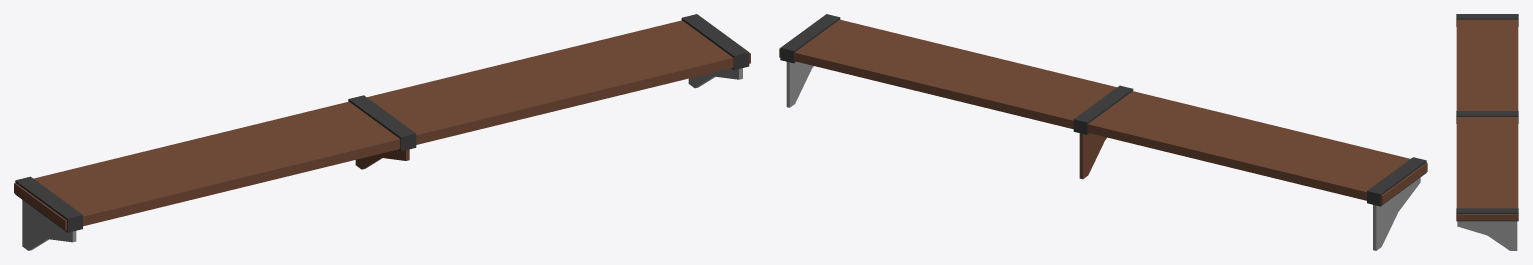
File: Med Wall Shelf.fbx
3 renders of one model, left to right at view 1: azimuth 30°, elevation 25°; view 2: azimuth 150°, elevation 25°; view 3: azimuth 270°, elevation 25°, orthographic. The views are drawn at different scales.
Visible parts, largest first — view 1: Med Wall Shelf; view 2: Med Wall Shelf; view 3: Med Wall Shelf.
Boxes of the visible parts, bbox=[...] form: Med Wall Shelf: bbox=[14, 14, 750, 250]; Med Wall Shelf: bbox=[779, 14, 1427, 250]; Med Wall Shelf: bbox=[1456, 14, 1518, 250].
Size of the model in its own units: 299 by 27.88 by 39.63.
1 material, 1 textured.
